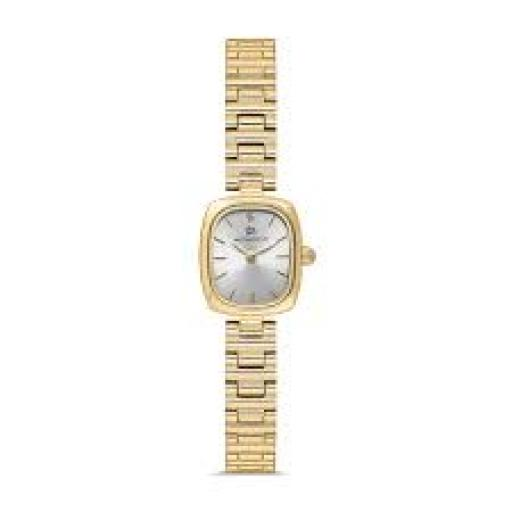KolSaati: (135, 26, 375, 508)
